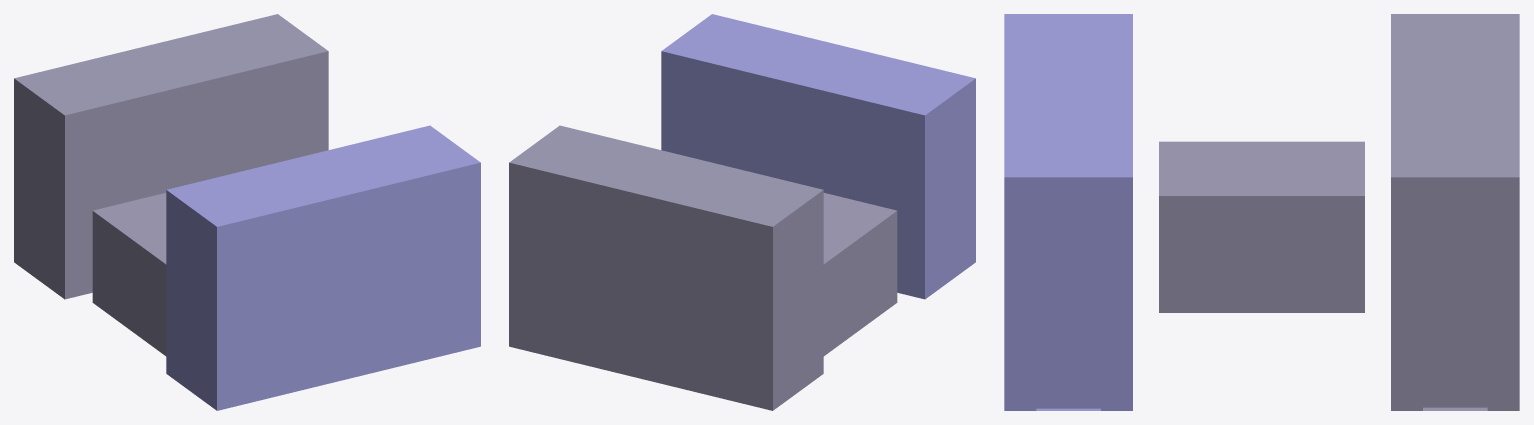
File: School.dae
The picture shows the model from 3 angles, left to right: view 1: azimuth 30°, elevation 25°; view 2: azimuth 150°, elevation 25°; view 3: azimuth 270°, elevation 25°; orthographic projection. The views are drawn at different scales.
Parts seen in each view (by area): view 1: Cube, Cube.002, Cube.001; view 2: Cube.002, Cube, Cube.001; view 3: Cube.002, Cube, Cube.001.
Part boxes in pixels (left/top/right/bottom): Cube: left=166, top=125, right=480, bottom=410; Cube.002: left=14, top=14, right=328, bottom=299; Cube.001: left=92, top=193, right=166, bottom=356; Cube.002: left=509, top=125, right=823, bottom=410; Cube: left=661, top=14, right=975, bottom=299; Cube.001: left=823, top=193, right=897, bottom=356; Cube.002: left=1391, top=14, right=1519, bottom=410; Cube: left=1004, top=14, right=1132, bottom=410; Cube.001: left=1159, top=141, right=1364, bottom=312.
Bounding box in the file's own units: 1.5 × 2 × 1.
